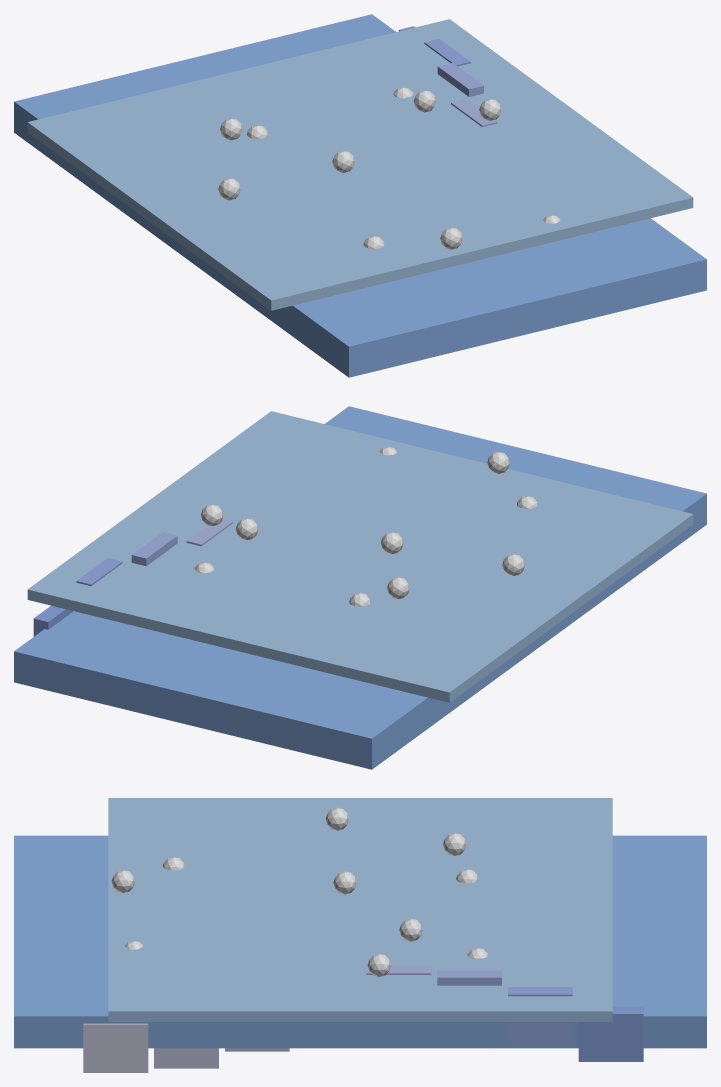
Rendered from wings_t8.glb.
3 views of the same model, one above another, from view 1: azimuth 30°, elevation 25°; view 2: azimuth 150°, elevation 25°; view 3: azimuth 270°, elevation 25° (orthographic). The views are drawn at different scales.
Parts seen in each view (by area): view 1: geometry_0; view 2: geometry_0; view 3: geometry_0.
Part boxes in pixels (bbox=[...]): geometry_0: bbox=[14, 14, 706, 377]; geometry_0: bbox=[14, 406, 706, 769]; geometry_0: bbox=[14, 798, 706, 1072].
Size of the model in its own units: 1.71 by 0.423 by 2.35.
